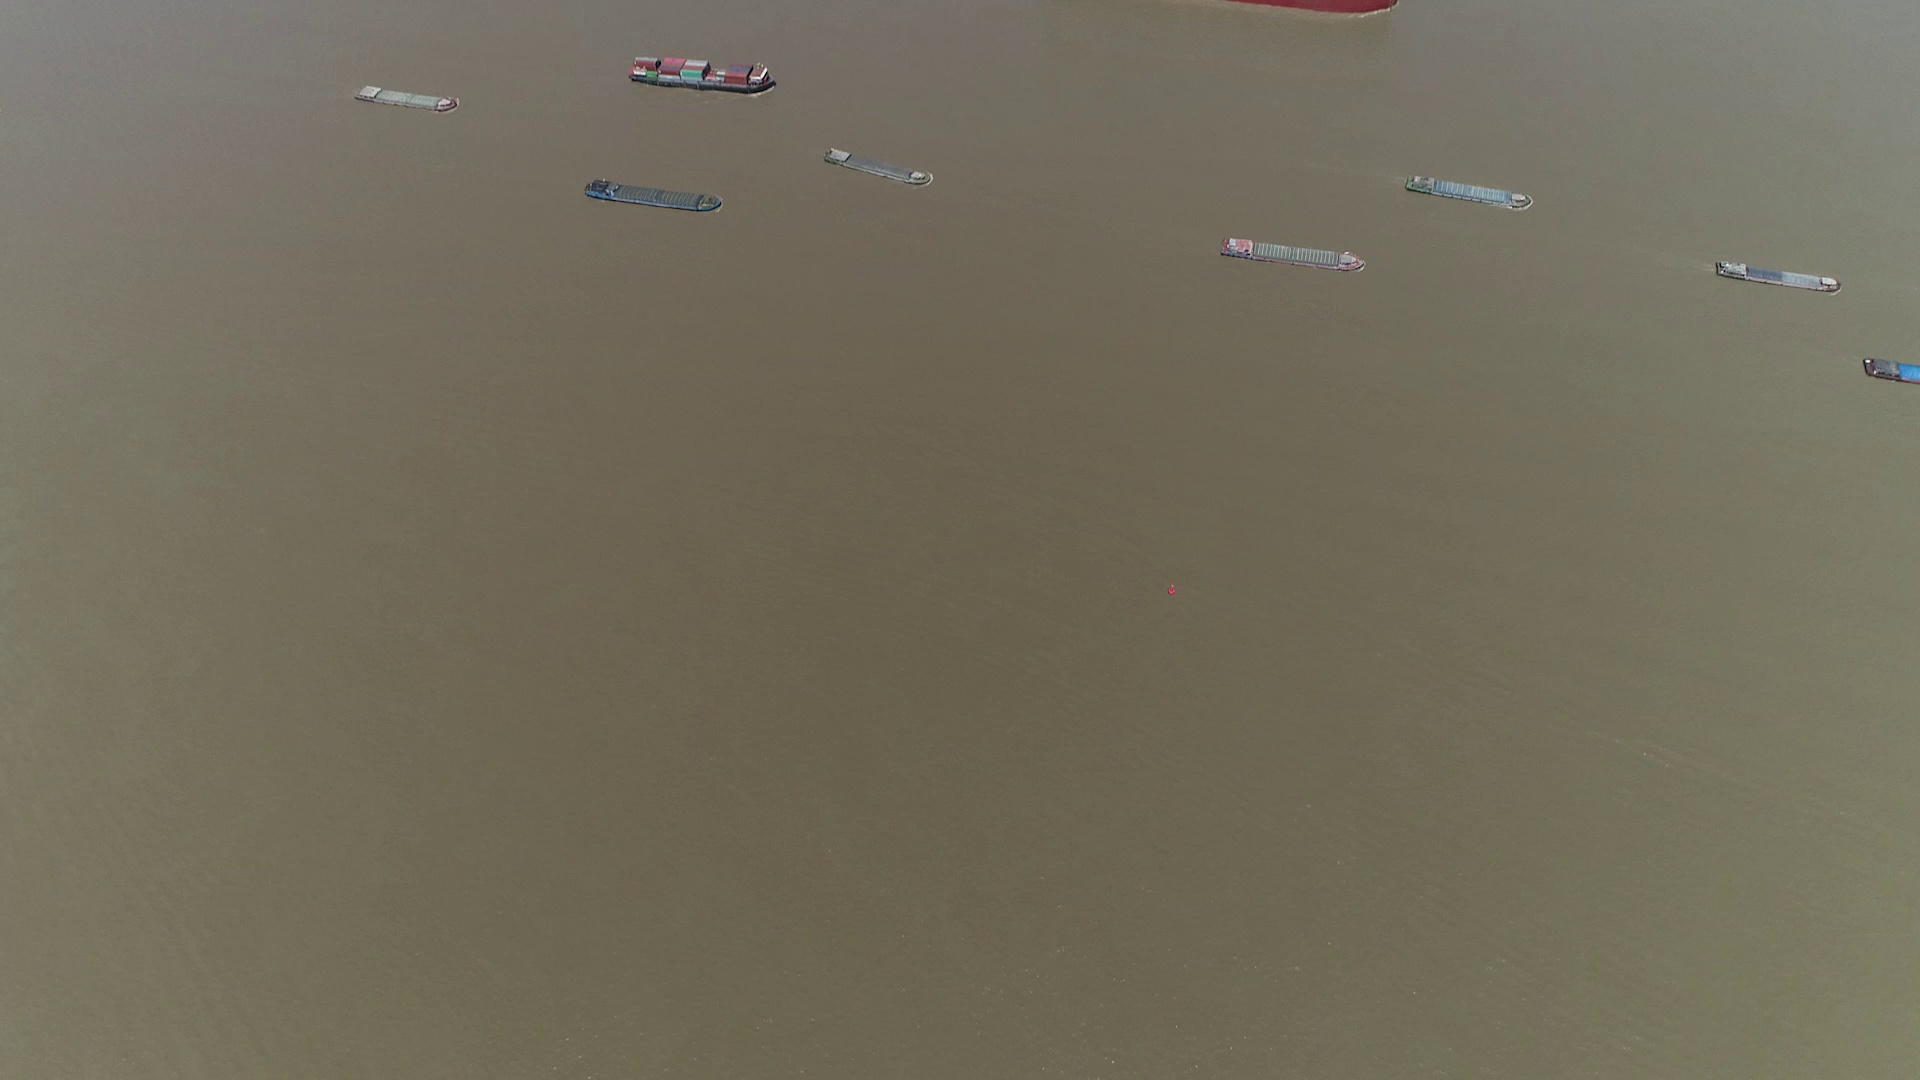ship: (630, 55, 775, 92), (1218, 233, 1362, 270), (585, 179, 723, 212), (823, 148, 936, 187), (1404, 174, 1534, 208), (1716, 262, 1840, 291), (356, 86, 459, 109), (1862, 356, 1920, 385)
